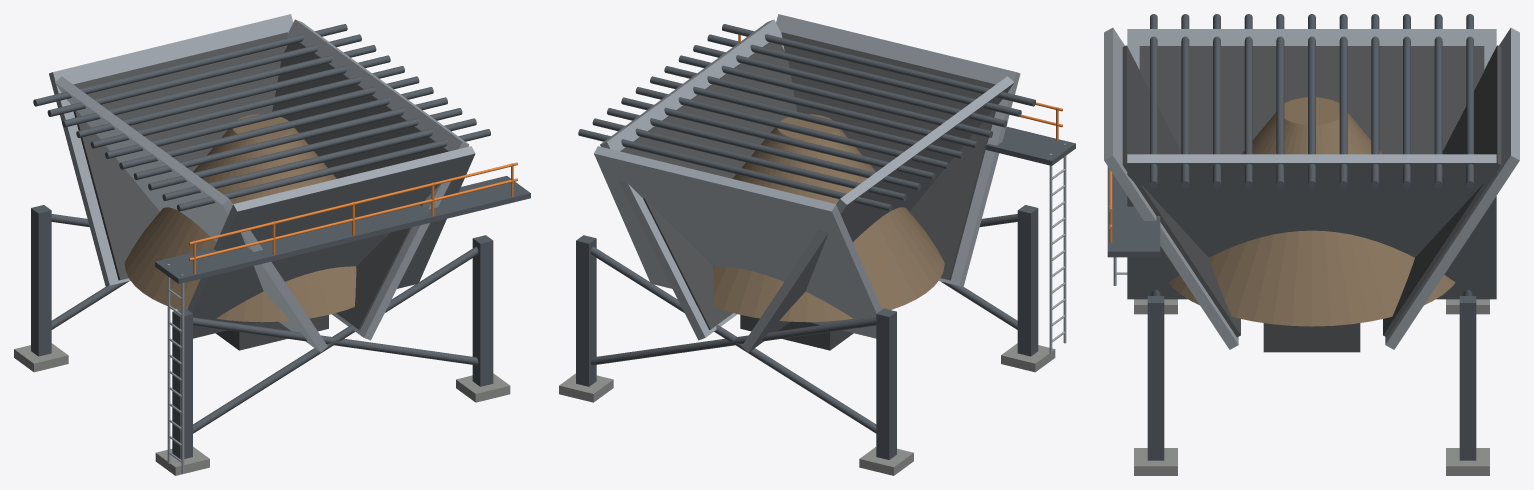
File: ROM-HOPPER.glb
The picture shows the model from 3 angles, left to right: view 1: azimuth 30°, elevation 25°; view 2: azimuth 150°, elevation 25°; view 3: azimuth 270°, elevation 25°; orthographic projection. The views are drawn at different scales.
Parts seen in each view (by area): view 1: ROM-HOPPER, ROM-HOPPER_WALL_SOUTH, ROM-HOPPER_LINER_NORTH, ROM-HOPPER_ORE, ROM-HOPPER_LINER_EAST, ROM-HOPPER_SERVICE_DECK, ROM-HOPPER_WALL_WEST, ROM-HOPPER_WALL_NORTH, ROM-HOPPER_WALL_EAST, ROM-HOPPER_LEG_184.35_-3.55, ROM-HOPPER_LEG_175.65_3.55, ROM-HOPPER_LEG_175.65_-3.55 (+11 smaller); view 2: ROM-HOPPER, ROM-HOPPER_WALL_NORTH, ROM-HOPPER_ORE, ROM-HOPPER_LINER_SOUTH, ROM-HOPPER_LINER_EAST, ROM-HOPPER_WALL_WEST, ROM-HOPPER_WALL_SOUTH, ROM-HOPPER_WALL_EAST, ROM-HOPPER_LEG_175.65_-3.55, ROM-HOPPER_LEG_175.65_3.55, ROM-HOPPER_LEG_184.35_3.55, ROM-HOPPER_BRACE_A_3.55 (+9 smaller); view 3: ROM-HOPPER_WALL_EAST, ROM-HOPPER_LINER_WEST, ROM-HOPPER_ORE, ROM-HOPPER, ROM-HOPPER_WALL_WEST, ROM-HOPPER_LINER_NORTH, ROM-HOPPER_LINER_SOUTH, ROM-HOPPER_WALL_NORTH, ROM-HOPPER_WALL_SOUTH, ROM-HOPPER_LEG_184.35_3.55, ROM-HOPPER_LEG_184.35_-3.55, ROM-HOPPER_SERVICE_DECK (+5 smaller).
Part boxes in pixels (box(x1,y1,x2,y2)): ROM-HOPPER: box(33, 24, 490, 462); ROM-HOPPER_WALL_SOUTH: box(187, 146, 475, 338); ROM-HOPPER_LINER_NORTH: box(73, 32, 287, 280); ROM-HOPPER_ORE: box(124, 114, 356, 322); ROM-HOPPER_LINER_EAST: box(272, 42, 448, 329); ROM-HOPPER_SERVICE_DECK: box(155, 176, 530, 283); ROM-HOPPER_WALL_WEST: box(55, 76, 327, 352); ROM-HOPPER_WALL_NORTH: box(49, 14, 293, 286); ROM-HOPPER_WALL_EAST: box(285, 19, 469, 340); ROM-HOPPER_LEG_184.35_-3.55: box(472, 235, 493, 386); ROM-HOPPER_LEG_175.65_3.55: box(31, 205, 51, 356); ROM-HOPPER_LEG_175.65_-3.55: box(172, 308, 192, 459); ROM-HOPPER: box(578, 24, 1065, 342); ROM-HOPPER_WALL_NORTH: box(594, 146, 881, 338); ROM-HOPPER_ORE: box(713, 114, 944, 322); ROM-HOPPER_LINER_SOUTH: box(781, 32, 995, 280); ROM-HOPPER_LINER_EAST: box(620, 42, 796, 329); ROM-HOPPER_WALL_WEST: box(741, 76, 1014, 352); ROM-HOPPER_WALL_SOUTH: box(776, 14, 1020, 286); ROM-HOPPER_WALL_EAST: box(600, 19, 784, 340); ROM-HOPPER_LEG_175.65_-3.55: box(1017, 205, 1038, 356); ROM-HOPPER_LEG_175.65_3.55: box(876, 308, 896, 459); ROM-HOPPER_LEG_184.35_3.55: box(576, 235, 596, 386); ROM-HOPPER_BRACE_A_3.55: box(591, 246, 876, 433); ROM-HOPPER_WALL_EAST: box(1127, 154, 1496, 299); ROM-HOPPER_LINER_WEST: box(1139, 46, 1484, 154); ROM-HOPPER_ORE: box(1168, 97, 1455, 326); ROM-HOPPER: box(1116, 14, 1473, 274); ROM-HOPPER_WALL_WEST: box(1127, 29, 1496, 69); ROM-HOPPER_LINER_NORTH: box(1383, 45, 1501, 337); ROM-HOPPER_LINER_SOUTH: box(1122, 45, 1240, 337); ROM-HOPPER_WALL_NORTH: box(1385, 27, 1519, 349); ROM-HOPPER_WALL_SOUTH: box(1104, 27, 1238, 349); ROM-HOPPER_LEG_184.35_3.55: box(1459, 296, 1476, 460); ROM-HOPPER_LEG_184.35_-3.55: box(1147, 296, 1164, 460); ROM-HOPPER_SERVICE_DECK: box(1107, 166, 1160, 257).
Bounding box in the file's own units: 10.2 × 7.39 × 9.46.
